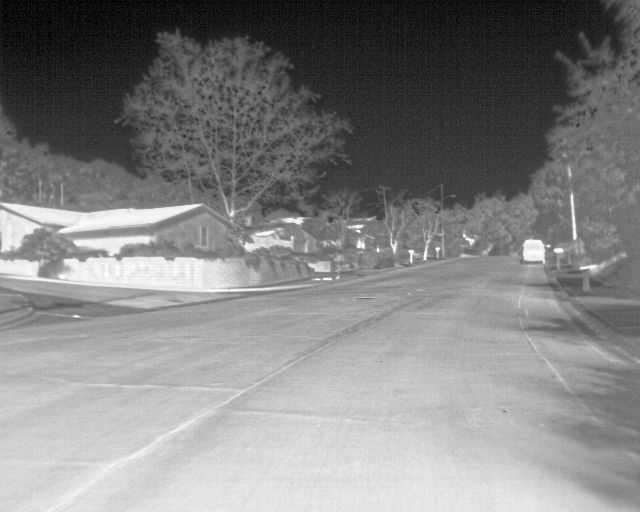vehicle: (522, 240, 547, 263)
